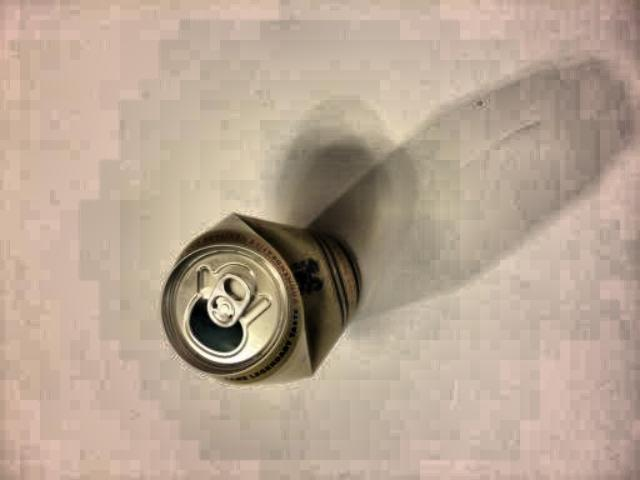Bottles: (156, 201, 382, 415)
